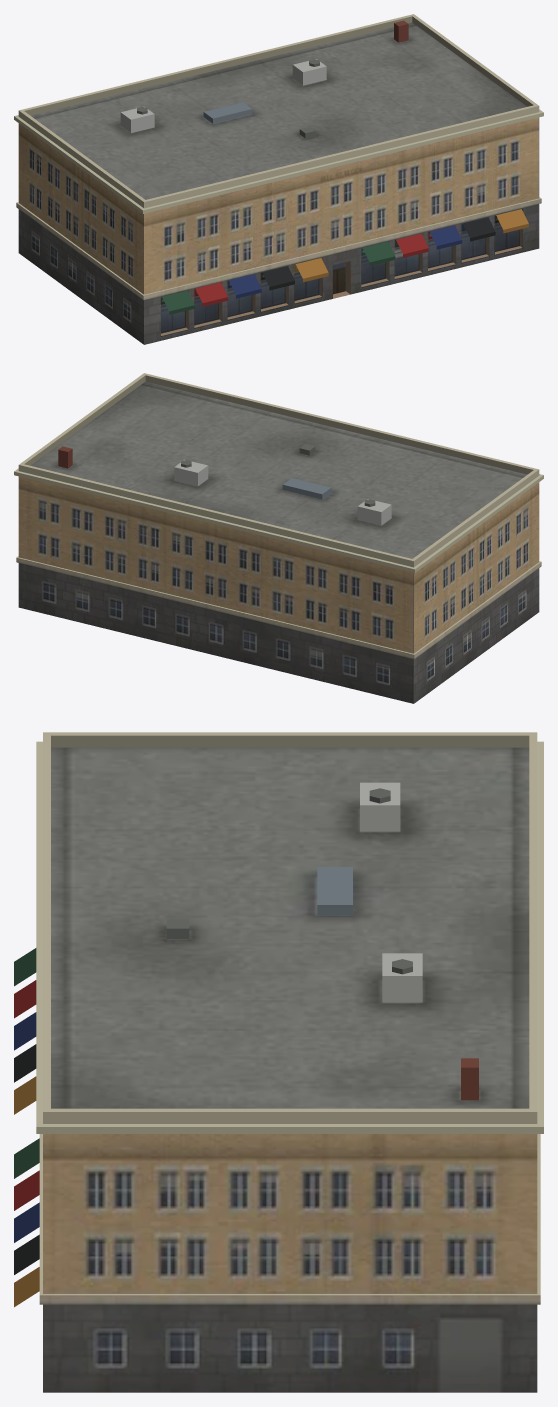
Rendered from seattle_belltown_a.glb.
3 renders of one model, top to bottom at view 1: azimuth 30°, elevation 25°; view 2: azimuth 150°, elevation 25°; view 3: azimuth 270°, elevation 25°, orthographic. The views are drawn at different scales.
Visible parts, largest first — view 1: seattle_belltown_a; view 2: seattle_belltown_a; view 3: seattle_belltown_a.
Part boxes in pixels (x1,y1,x2,y2): seattle_belltown_a: (14,14,543,344); seattle_belltown_a: (14,373,543,703); seattle_belltown_a: (14,732,543,1392).
Bounding box in the file's own units: 40.6 × 14.8 × 23.6.
Materials: 1 (1 with a texture image).
